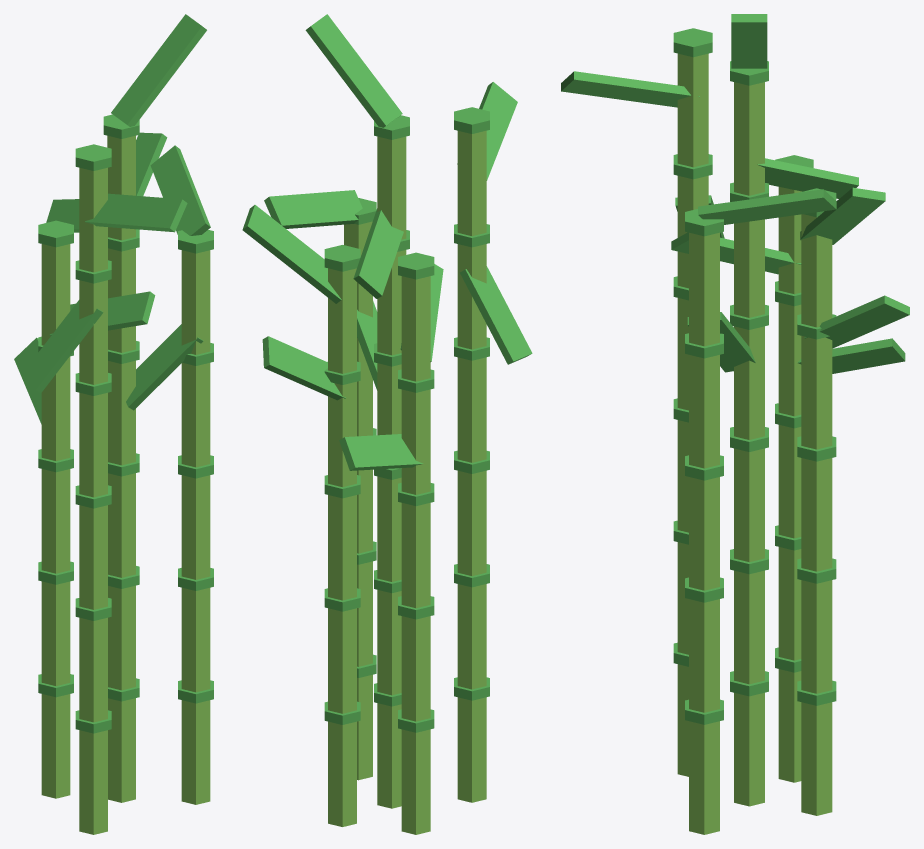
Rendered from plant_bamboo.glb.
3 renders of one model, left to right at view 1: azimuth 30°, elevation 25°; view 2: azimuth 150°, elevation 25°; view 3: azimuth 270°, elevation 25°, orthographic. The views are drawn at different scales.
Parts seen in each view (by area): view 1: plant_bamboo; view 2: plant_bamboo; view 3: plant_bamboo.
Boxes of the visible parts, left/top/right/bottom form: plant_bamboo: left=14, top=14, right=213, bottom=834; plant_bamboo: left=242, top=14, right=532, bottom=834; plant_bamboo: left=561, top=14, right=909, bottom=834.
Bounding box in the file's own units: 0.1151 × 0.4044 × 0.1553.
